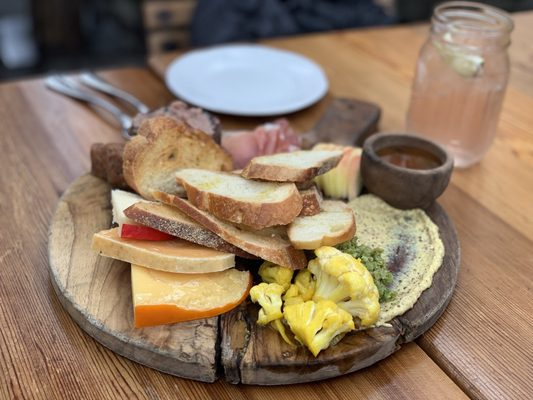pizza: (406, 1, 514, 171), (361, 133, 454, 211), (139, 0, 199, 83)
soup: (122, 116, 235, 203)
steak: (91, 224, 236, 275)
taco: (133, 265, 253, 329)
